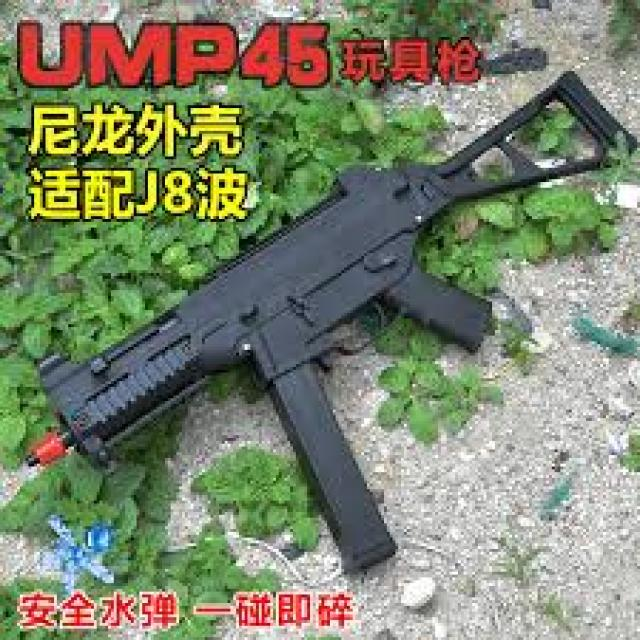Gun: (11, 66, 640, 560)
